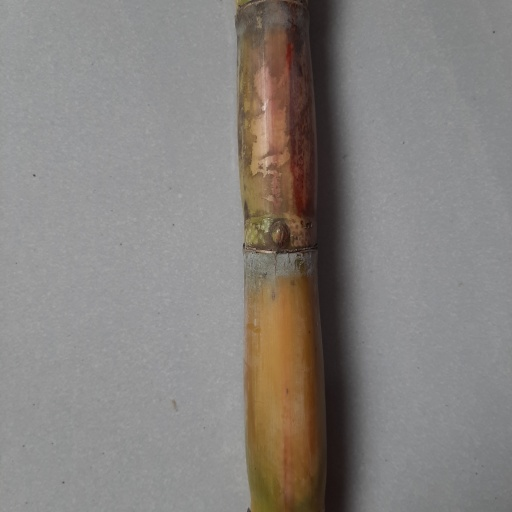Bud: (268, 219, 290, 251)
